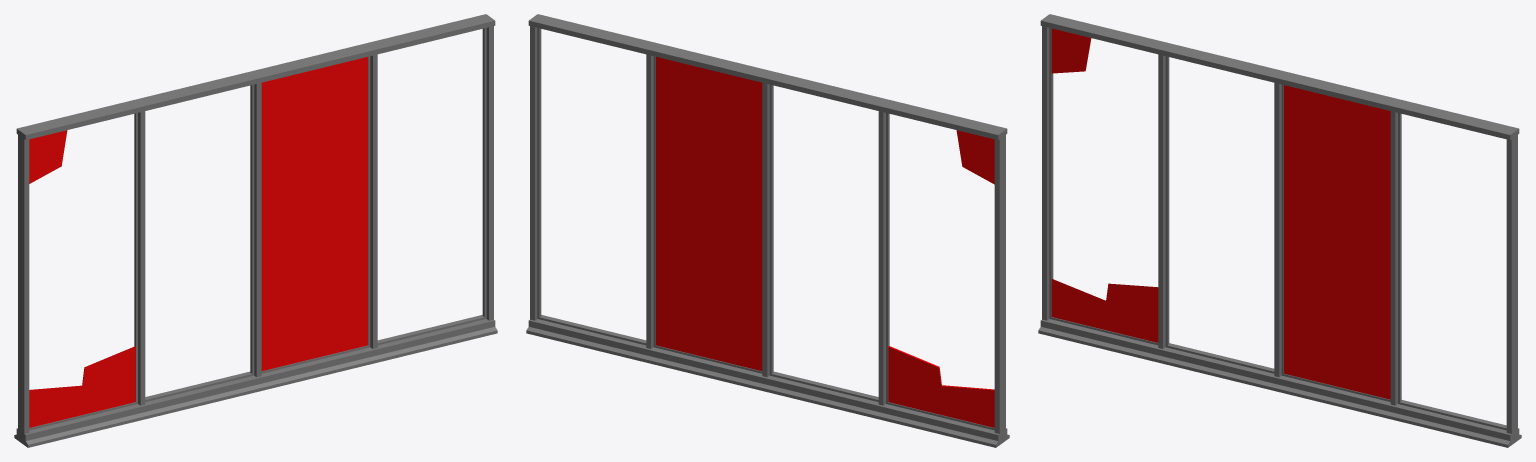
The model's file is Window03_Broken01.fbx.
3 renders of one model, left to right at view 1: azimuth 30°, elevation 25°; view 2: azimuth 150°, elevation 25°; view 3: azimuth 330°, elevation 25°, orthographic.
Visible parts, largest first — view 1: Window03_Broken01; view 2: Window03_Broken01; view 3: Window03_Broken01.
Part boxes in pixels (box(x1,y1,x2,y2)): Window03_Broken01: box(14, 14, 497, 447); Window03_Broken01: box(526, 14, 1009, 447); Window03_Broken01: box(1038, 14, 1521, 447).
Bounding box in the file's own units: 240 × 152 × 12.
